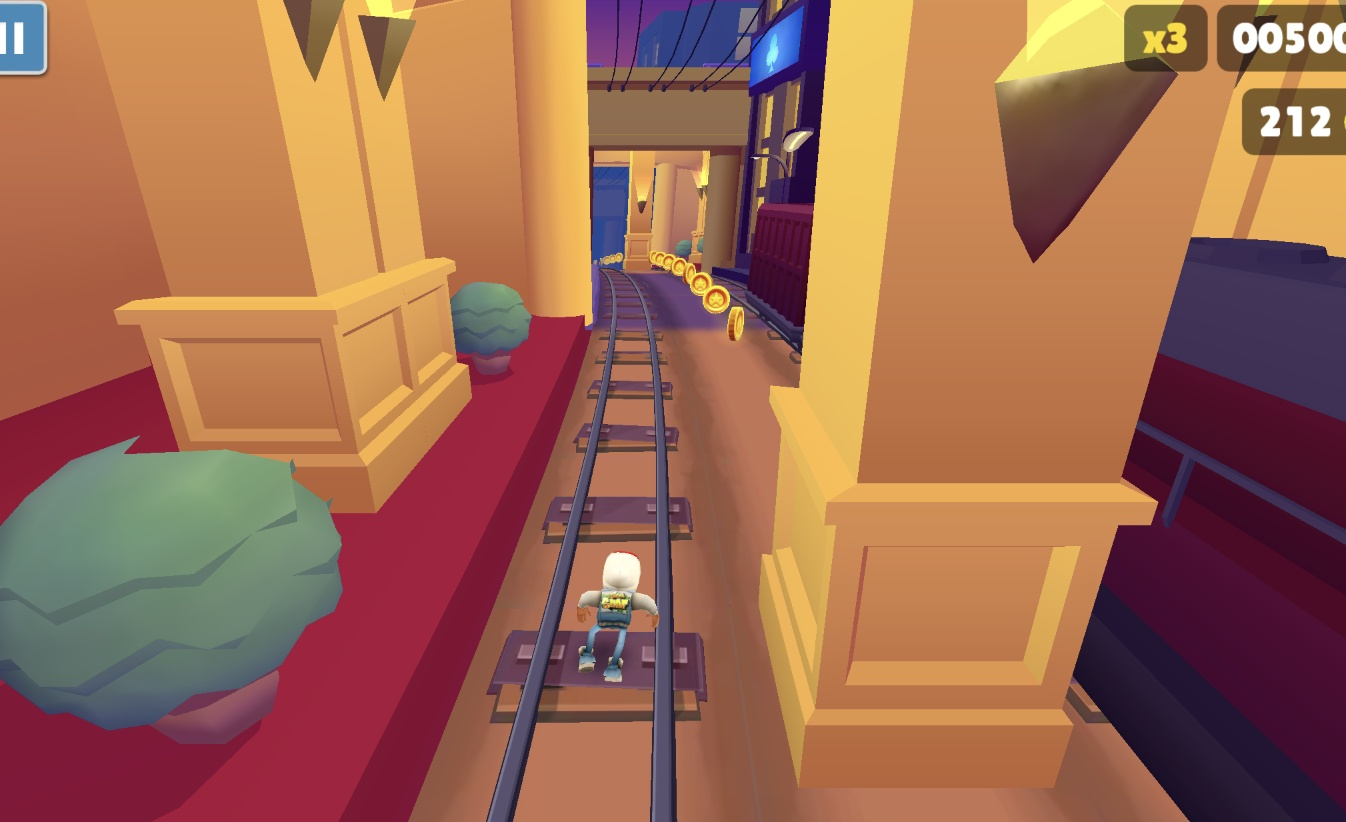pillar: (758, 0, 1294, 790), (623, 151, 657, 272)
train: (1068, 237, 1346, 822), (744, 201, 815, 350)
